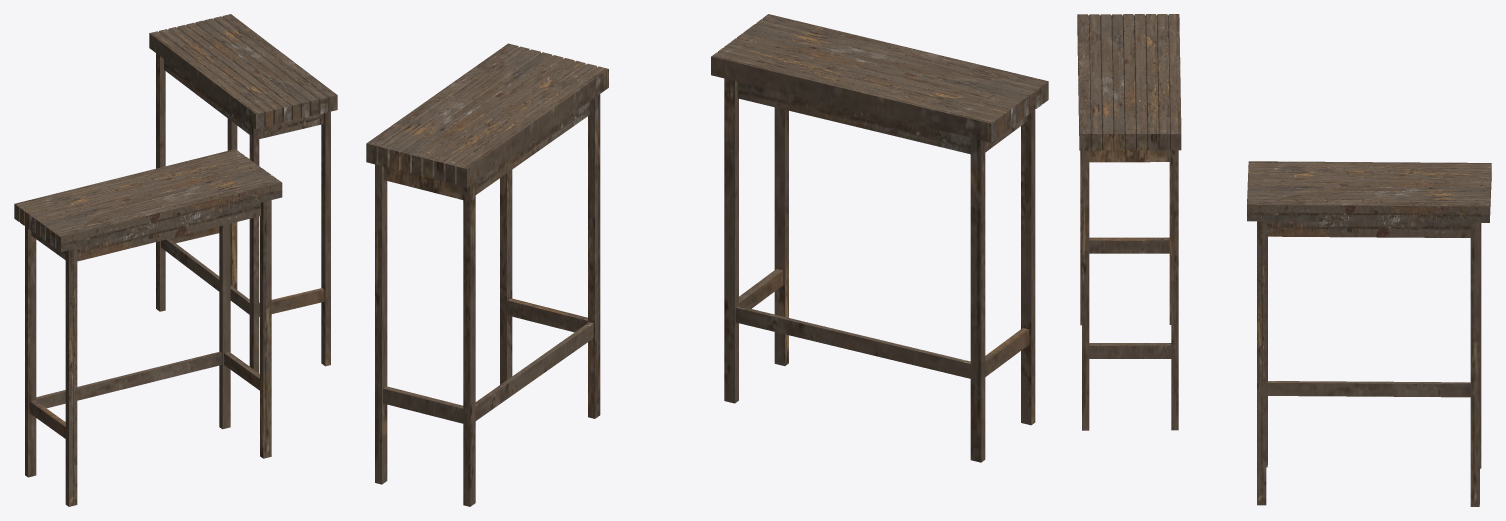
The model's file is Mesas.glb.
3 views of the same model, side by side, from view 1: azimuth 30°, elevation 25°; view 2: azimuth 150°, elevation 25°; view 3: azimuth 270°, elevation 25° (orthographic). The views are drawn at different scales.
Parts seen in each view (by area): view 1: Mesa03, Mesa02; view 2: Mesa03, Mesa02; view 3: Mesa02, Mesa03.
Boxes of the visible parts, box(x1,y1,x2,y2) form: Mesa03: box(14, 149, 282, 506); Mesa02: box(149, 14, 337, 372); Mesa03: box(711, 14, 1048, 462); Mesa02: box(366, 43, 608, 506); Mesa02: box(1247, 161, 1491, 506); Mesa03: box(1077, 14, 1181, 430).
Size of the model in its own units: 1.41 by 1.03 by 1.28.
Materials: 1 (1 with a texture image).
